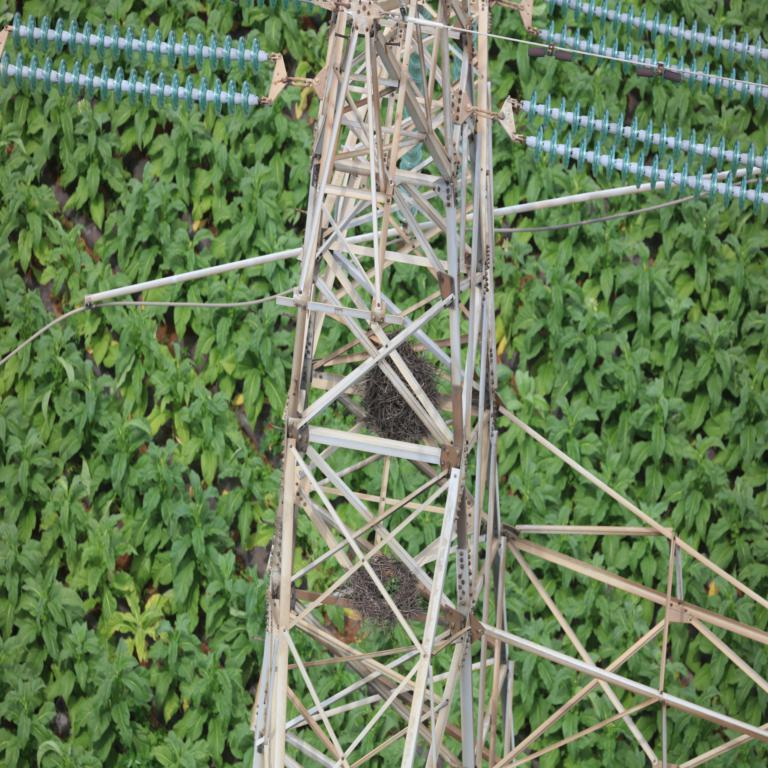nest: (367, 335, 435, 444)
